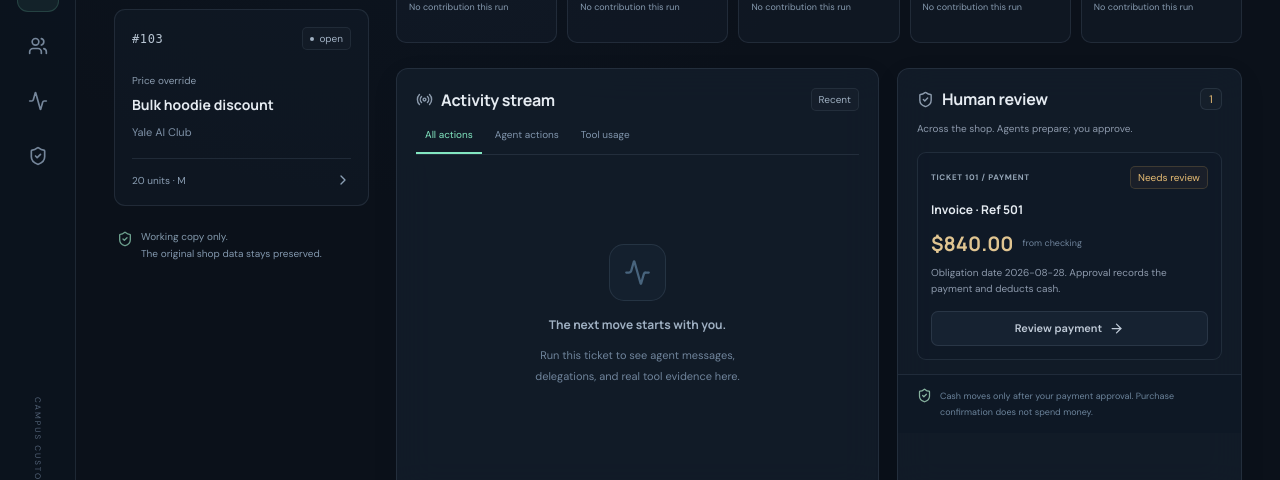
Scenario: Dashboard behavior (test-only API fixtures) › requires human review and updates cash after a payment decision
(page scrolled)
Click the button "Review payment": (1070, 328) [931, 310, 1208, 346]
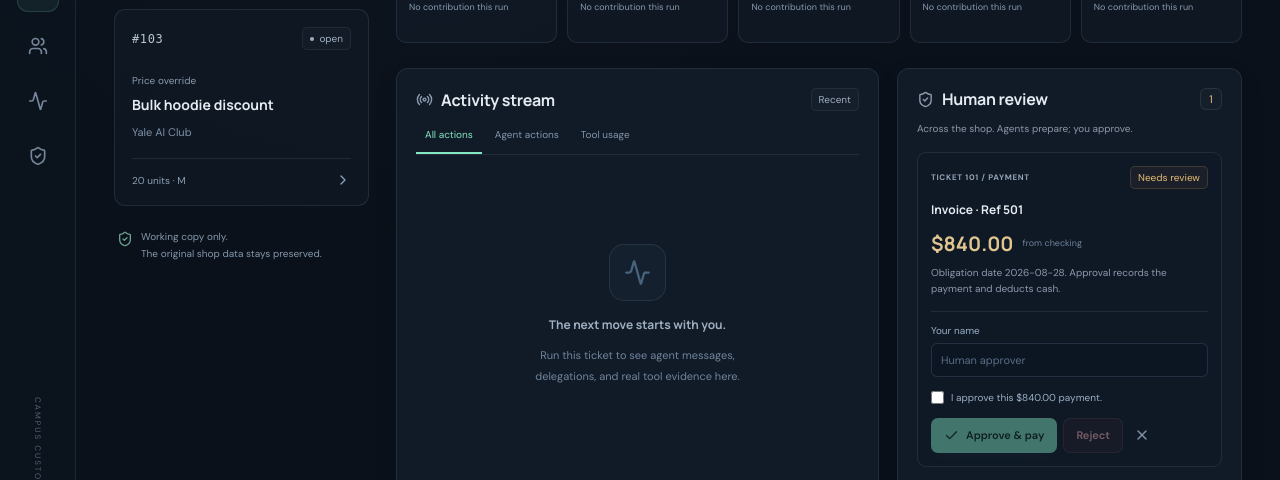
Expected: the button "Approve & pay" is disabled, [931, 418, 1057, 452]
In the field labelled "Your name": (1070, 360) [931, 342, 1208, 376], type "Fixture Human"
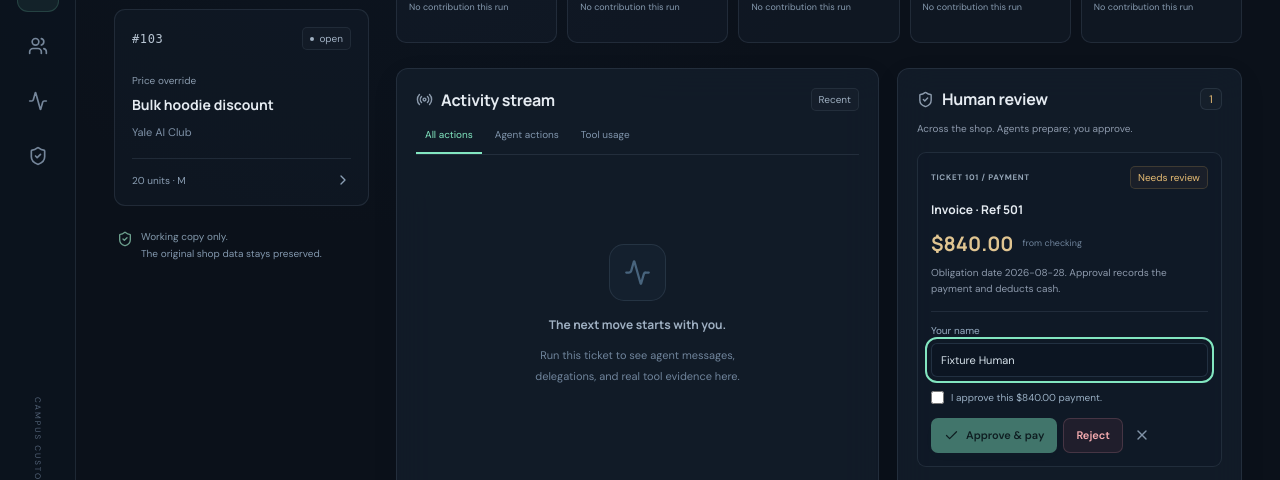
Click the checkbox labelled "I approve this $840.00 payment.": (938, 397) [931, 390, 944, 404]
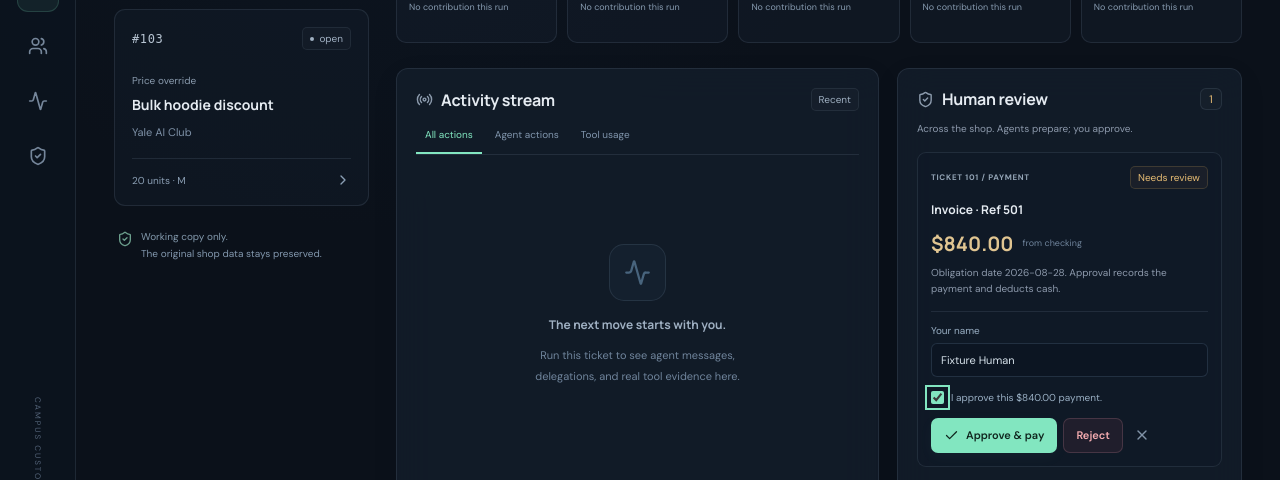
Click the button "Approve & pay": (994, 435) [931, 418, 1057, 452]
(page scrolled)
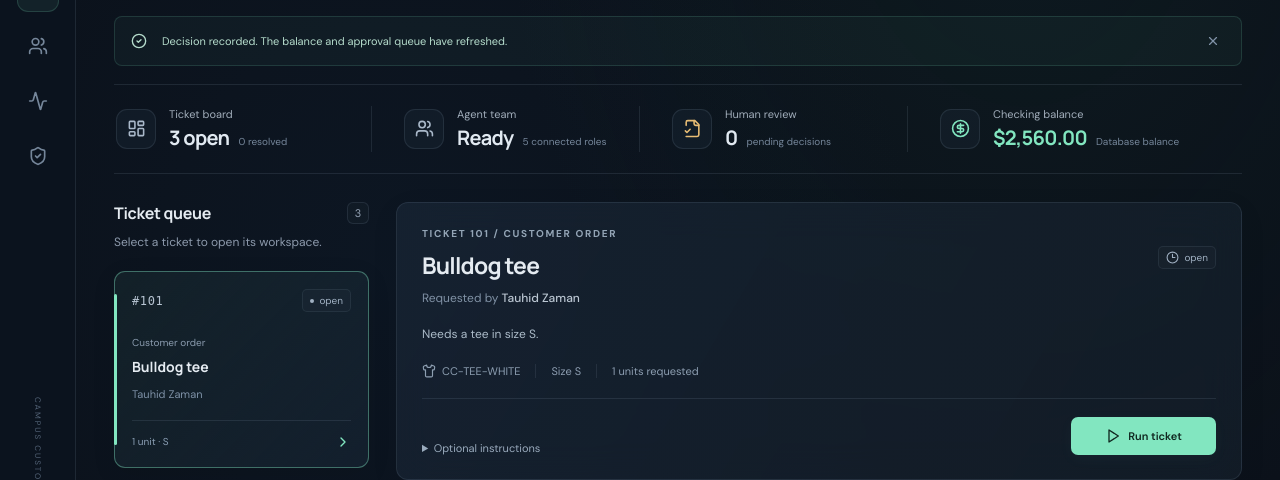
Expected: the button "Review payment" is not shown
Expected: the text "$2,560.00" is shown, [993, 124, 1087, 151]
